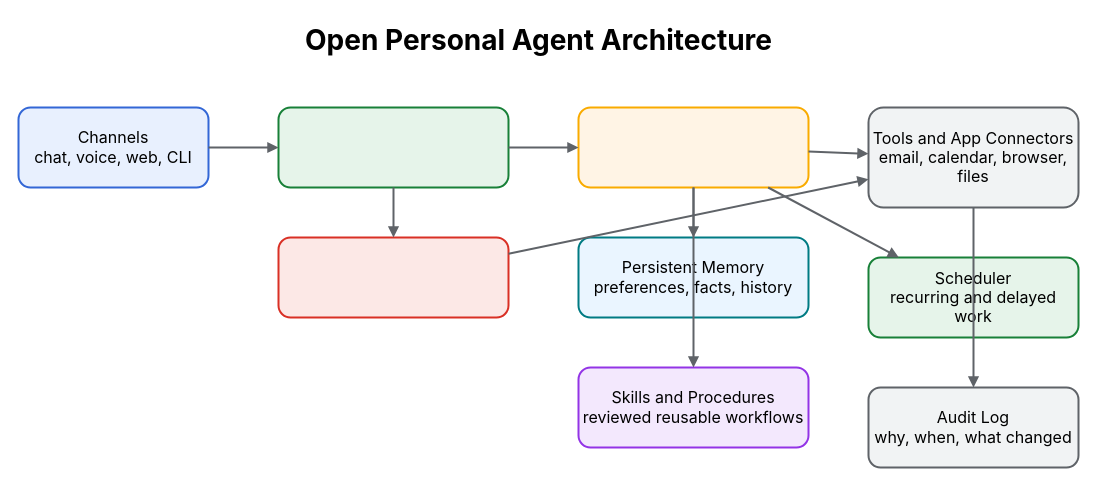
Image size: 1096x485. Some labels were removed from this diagram. Each missing label, with the centre of its shape:
"Gateway / Control Plane routing and task state" goes at (393,147).
"Identity and Permissions user, scope, policy" goes at (393,277).
"Personal Agent Loop plan, act, remember" goes at (693,147).
